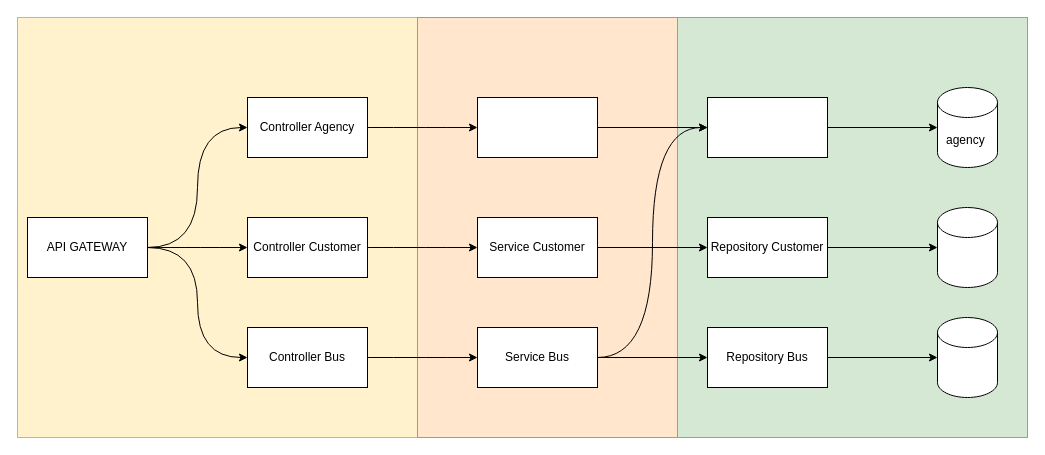
Some shapes in this 1045 by 455 pixel diagram are drawn without their labels. Each missing label, with the centre of its shape:
"bus" goes at point 967,357.
"customer" goes at point 967,247.
"Repository Agency" goes at point 767,127.
"Service Agency" goes at point 537,127.
